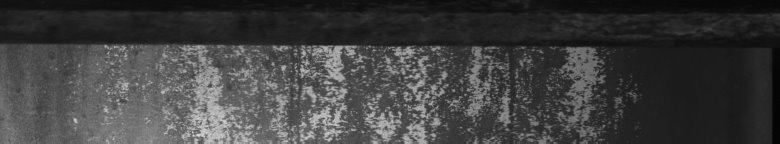kb: (27, 0, 589, 144)
